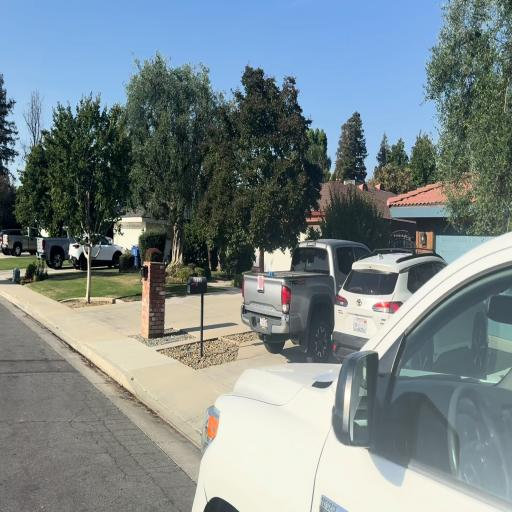bullseye: (258, 276, 263, 290)
